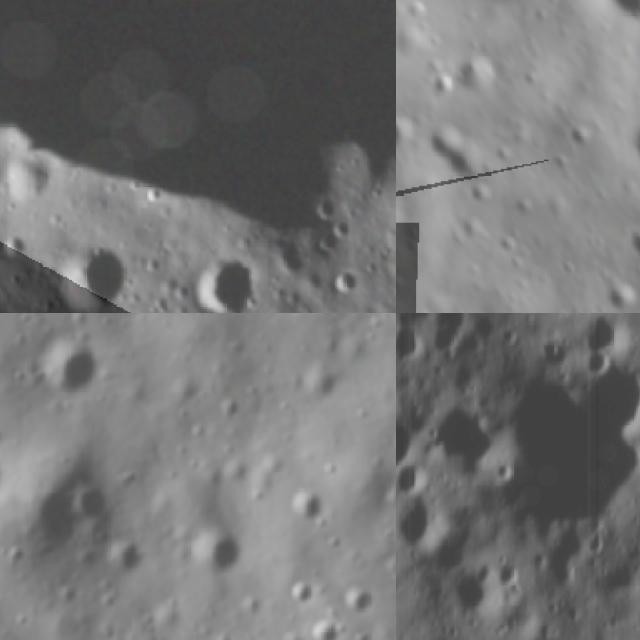crater: (0, 0, 396, 226), (496, 353, 640, 527), (54, 240, 137, 313), (428, 396, 500, 474), (418, 114, 487, 185), (396, 481, 453, 552), (197, 255, 262, 313), (41, 343, 96, 397), (449, 566, 500, 622), (574, 313, 631, 360), (454, 52, 500, 98), (187, 536, 241, 574), (600, 279, 640, 313), (396, 450, 427, 493), (396, 106, 421, 157), (427, 70, 462, 106), (70, 486, 104, 522), (493, 552, 524, 591), (578, 347, 610, 379), (619, 224, 640, 270), (334, 265, 360, 298), (626, 111, 640, 172), (294, 486, 321, 516), (291, 574, 312, 611), (0, 231, 33, 254), (307, 618, 340, 640), (344, 583, 370, 610), (565, 126, 593, 147)
